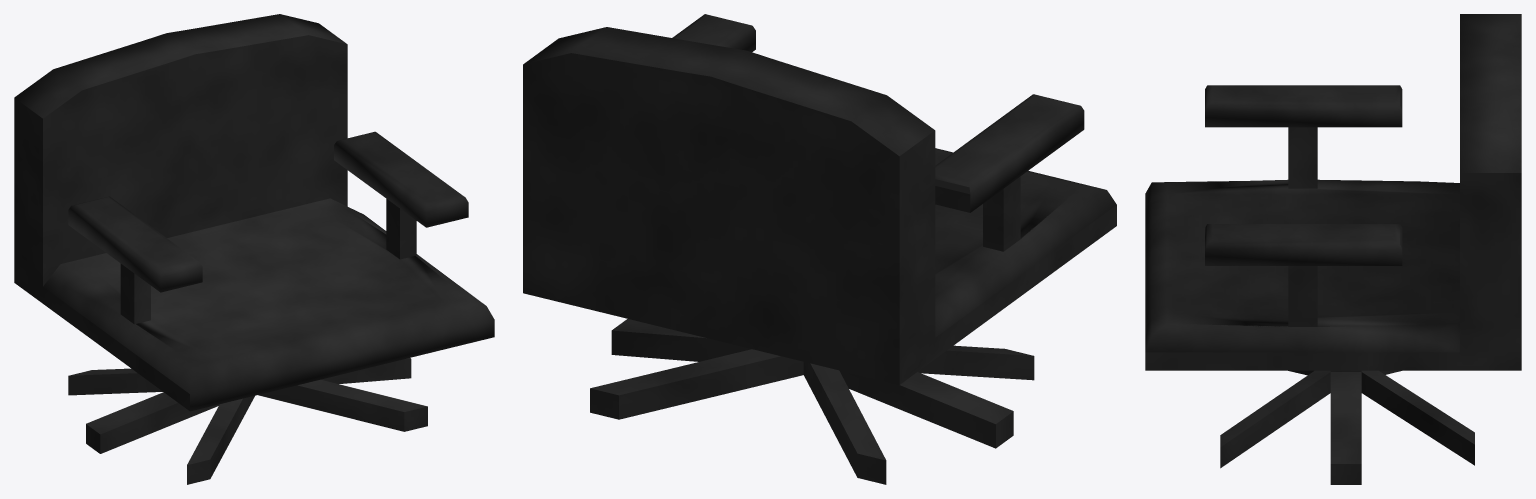
File: chair.glb
3 views of the same model, side by side, from view 1: azimuth 30°, elevation 25°; view 2: azimuth 150°, elevation 25°; view 3: azimuth 270°, elevation 25° (orthographic). The views are drawn at different scales.
Parts seen in each view (by area): view 1: bake_only; view 2: bake_only; view 3: bake_only.
Boxes of the visible parts, left/top/right/bottom form: bake_only: left=14, top=14, right=494, bottom=484; bake_only: left=523, top=14, right=1116, bottom=484; bake_only: left=1145, top=14, right=1521, bottom=484.
Bounding box in the file's own units: 1.02 × 1 × 1.
Materials: 1 (1 with a texture image).
